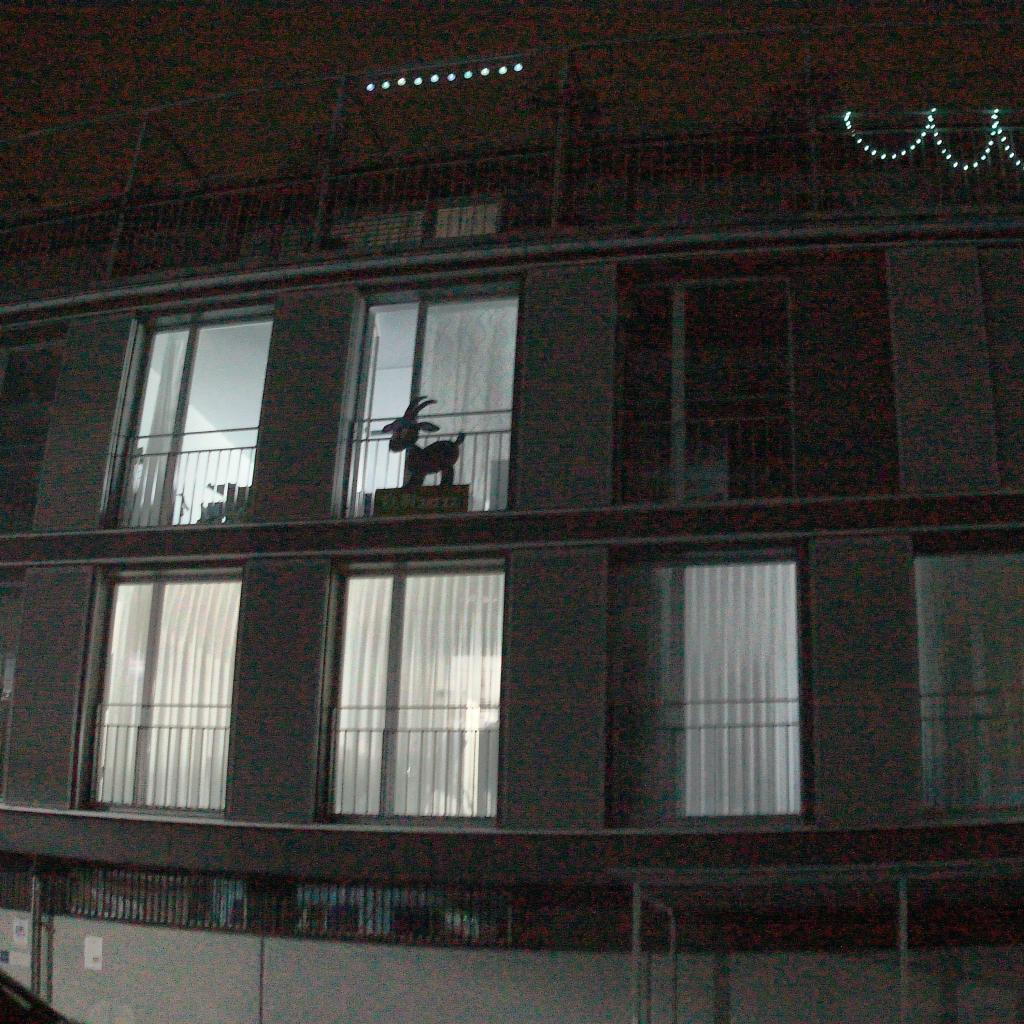balcony-fence: (0, 17, 1024, 303), (609, 696, 807, 824), (327, 703, 502, 818), (618, 392, 795, 502), (339, 408, 514, 516), (104, 425, 258, 529), (85, 703, 228, 814), (918, 686, 1023, 820)
facade: (0, 216, 1024, 953)
fence: (0, 860, 1024, 1024)
non-building-infrastructure: (608, 858, 1024, 1024)
window: (608, 545, 810, 827), (326, 556, 509, 822), (336, 278, 522, 517), (617, 257, 796, 503), (84, 561, 246, 816), (102, 303, 276, 529), (882, 242, 1024, 495), (912, 530, 1024, 822)
